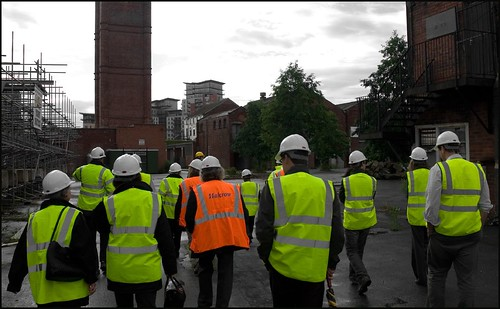person hardhat: (276, 134, 312, 174), (42, 169, 75, 206), (112, 153, 143, 187), (431, 131, 461, 161), (201, 155, 224, 183), (349, 150, 367, 173), (409, 147, 429, 167), (89, 147, 107, 165), (187, 159, 203, 178), (169, 162, 182, 176), (241, 169, 252, 182)
